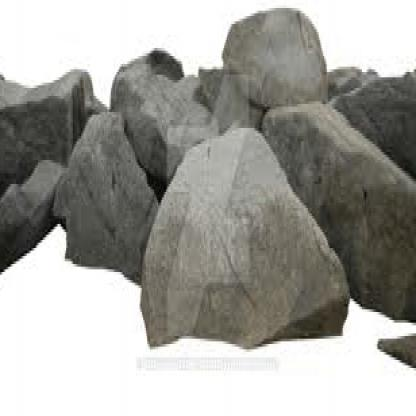Metamorphic_Marble: (134, 117, 352, 374), (51, 93, 158, 288), (213, 0, 341, 110)
